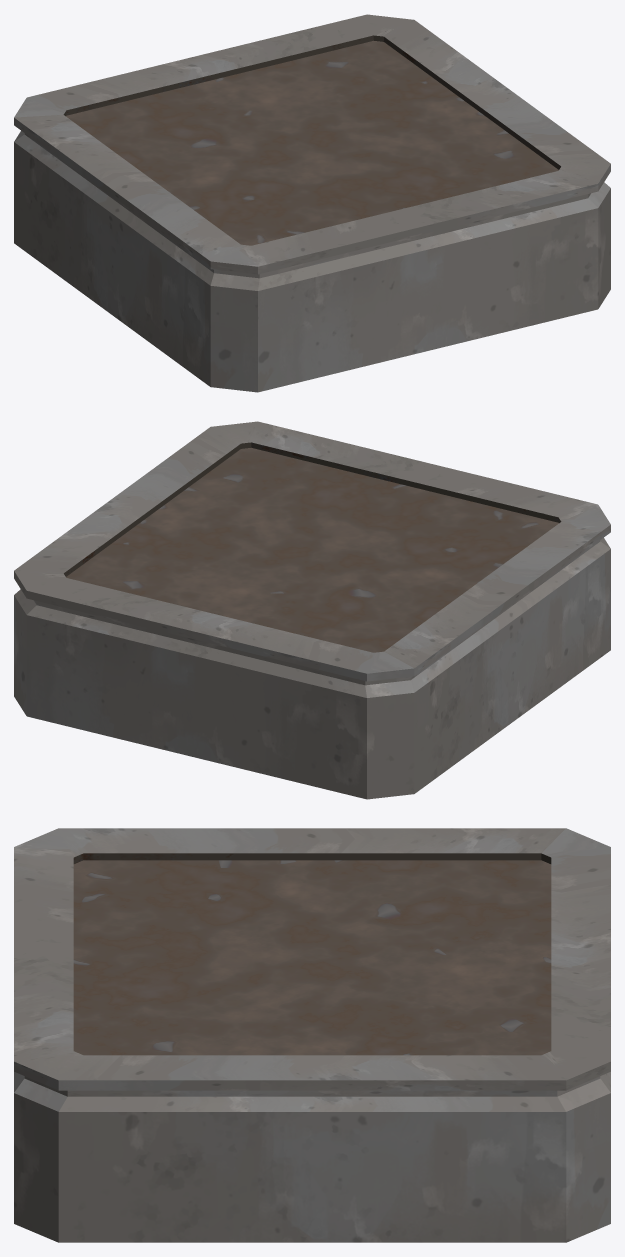
The model's file is Prop_Planter_Single.gltf.
The picture shows the model from 3 angles, top to bottom: view 1: azimuth 30°, elevation 25°; view 2: azimuth 150°, elevation 25°; view 3: azimuth 270°, elevation 25°; orthographic projection. The views are drawn at different scales.
Visible parts, largest first — view 1: Prop_Planter_Single; view 2: Prop_Planter_Single; view 3: Prop_Planter_Single.
Part boxes in pixels (x1,y1,x2,y2): Prop_Planter_Single: [14, 14, 610, 392]; Prop_Planter_Single: [14, 421, 610, 799]; Prop_Planter_Single: [14, 828, 610, 1242].
Size of the model in its own units: 2 by 0.6 by 2.
Materials: 2 (2 with a texture image).
